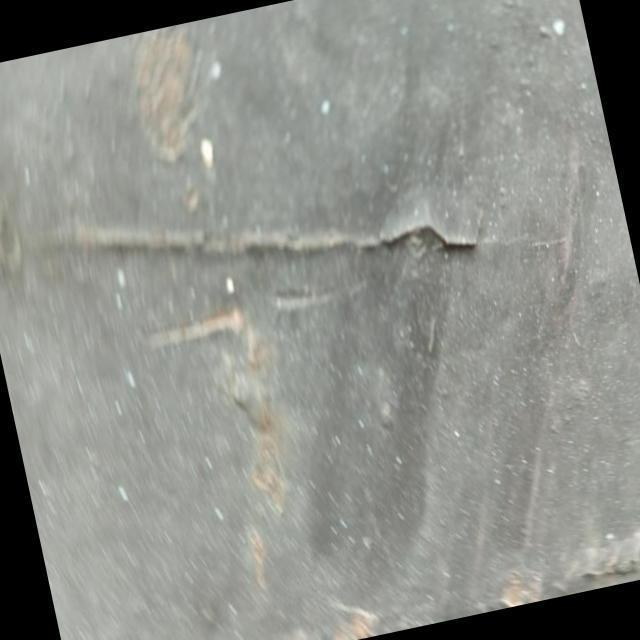defect: (51, 214, 483, 259)
